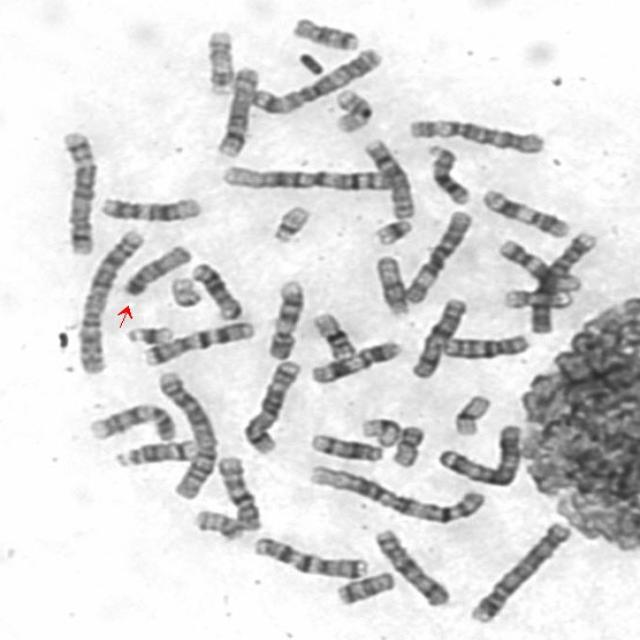A1: (302, 459, 489, 526), (215, 159, 395, 193)
A2: (70, 225, 146, 375), (150, 366, 221, 502)
A3: (242, 42, 386, 116), (430, 419, 525, 489)
B4: (463, 516, 574, 626), (525, 227, 602, 336)
B5: (236, 354, 303, 456), (54, 125, 99, 257)
C10: (210, 451, 264, 532), (436, 329, 532, 361)
C11: (476, 184, 574, 239), (304, 335, 404, 386)
C12: (492, 234, 584, 294), (93, 190, 204, 223)
C6: (398, 204, 476, 306), (403, 112, 548, 156)
C7: (137, 316, 257, 368), (246, 531, 370, 580)
C8: (357, 133, 418, 221), (208, 62, 262, 159)
C9: (82, 398, 180, 443), (261, 274, 306, 362)
D13: (185, 257, 244, 321), (420, 139, 472, 206)
D14: (110, 434, 200, 470), (304, 428, 385, 463)
D15: (118, 240, 194, 297), (370, 251, 412, 318)
E16: (306, 308, 358, 362), (327, 84, 375, 134)
E17: (199, 24, 236, 97), (497, 285, 579, 311)
E18: (286, 12, 362, 52), (330, 566, 397, 606)
F19: (446, 390, 494, 437), (354, 412, 403, 448)
F20: (187, 504, 245, 542), (386, 420, 427, 469)
G21: (367, 213, 416, 247), (120, 320, 175, 347)
G22: (266, 200, 312, 245), (163, 272, 204, 310)
X: (368, 524, 452, 608), (404, 292, 470, 381)
